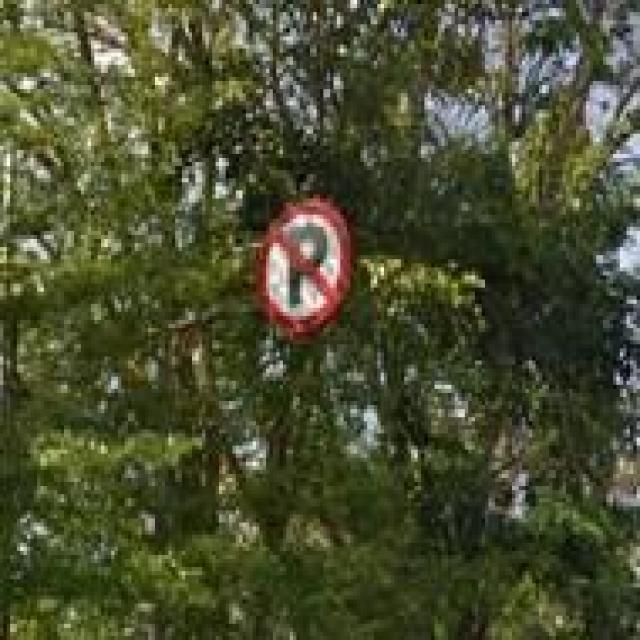traffic sign: (256, 199, 350, 332)
